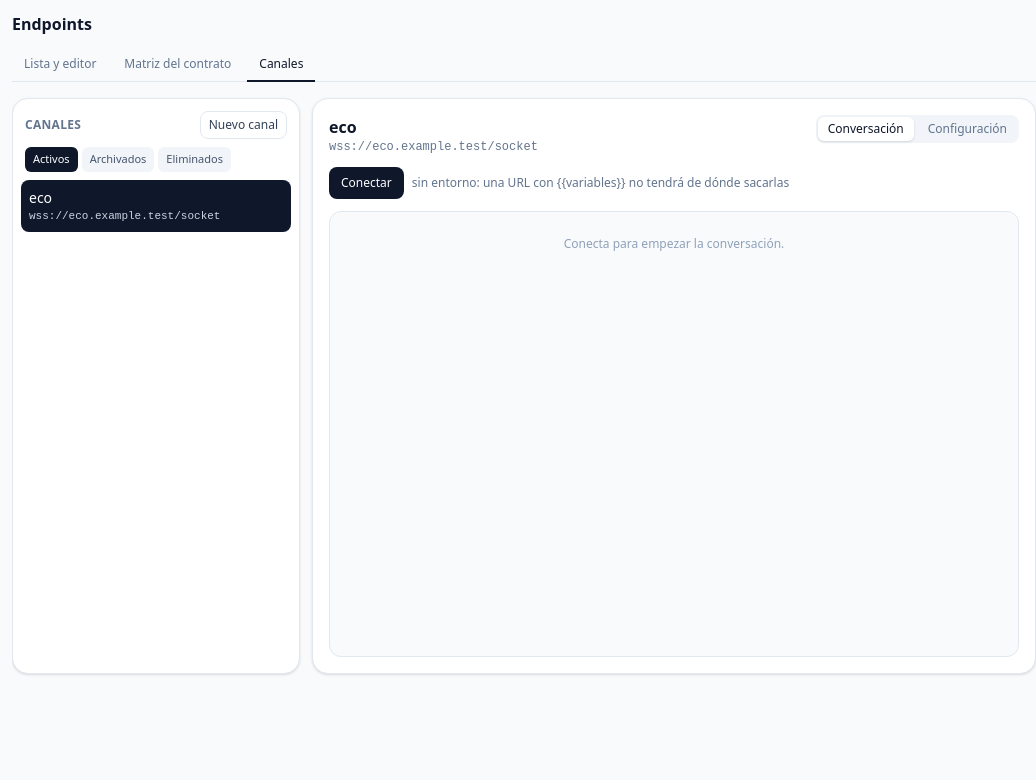
Test: los botones de la conversación › sin entorno conecta sin él, y lo dice; un fallo al conectar se dice; mientras conecta también
Expected: the text "sin entorno: una URL con {{variables}}" is shown, [412,174,789,191]
Click the button "Conectar".
click(366, 183)  # box [329,167,404,199]
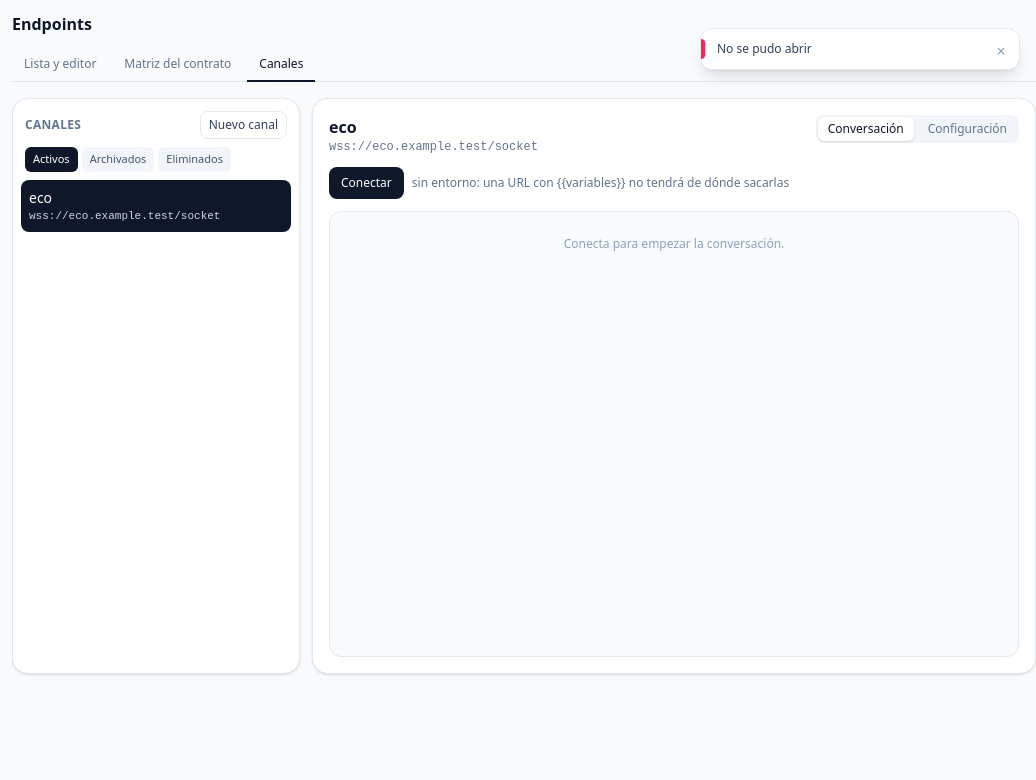
Result: the text "No se pudo abrir" is shown at [717,40,812,57]
Click the button "Conectar".
click(366, 183)  # box [329,167,404,199]
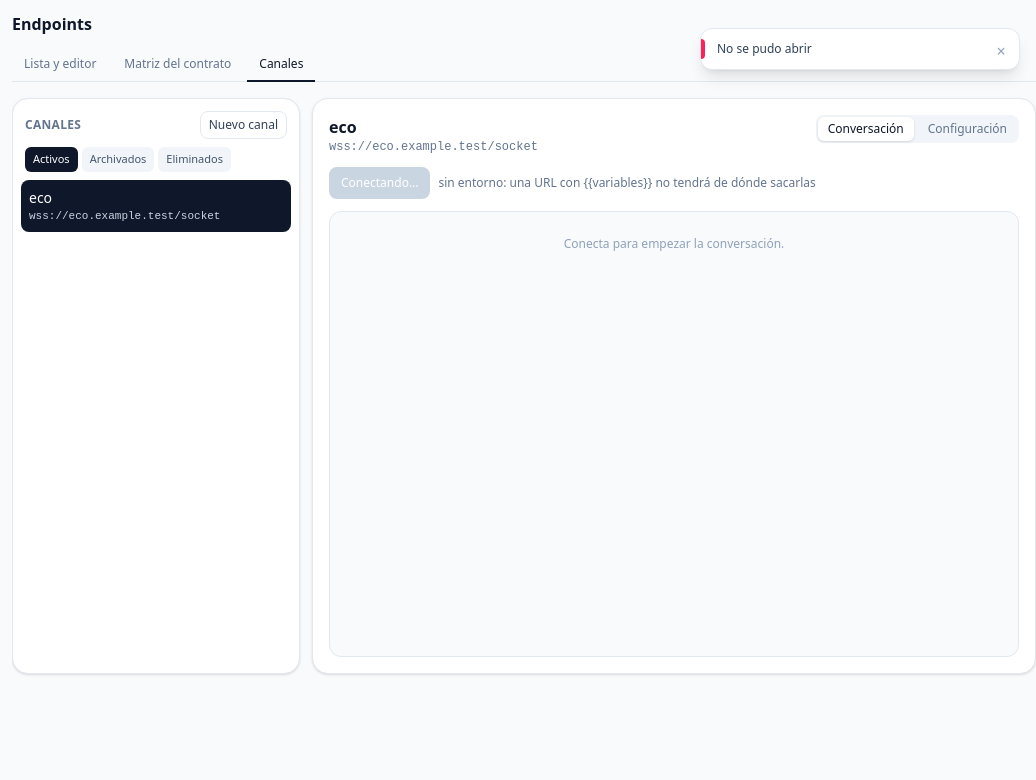
Result: the button "Conectando…" is shown at [329,167,430,199]
